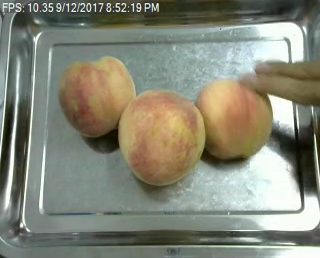Peach: (117, 88, 206, 185), (57, 57, 136, 138), (196, 79, 274, 159)
